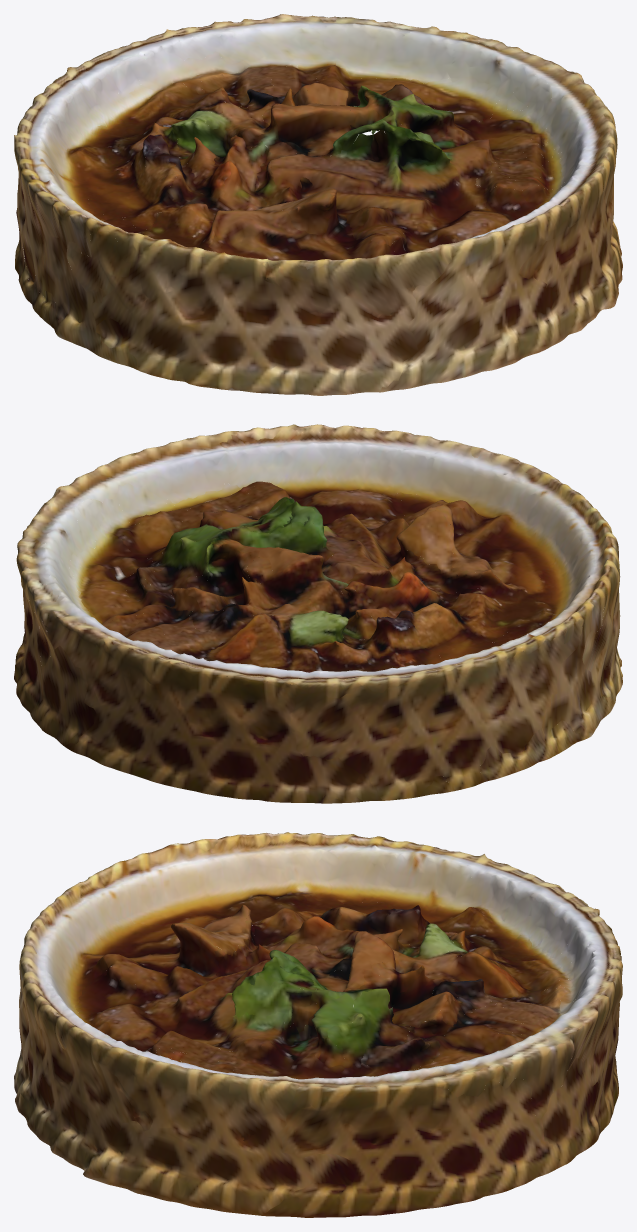
File: costillas.glb
3 views of the same model, one above another, from view 1: azimuth 30°, elevation 25°; view 2: azimuth 150°, elevation 25°; view 3: azimuth 270°, elevation 25° (orthographic).
Parts seen in each view (by area): view 1: parte0, parte1; view 2: parte0, parte1; view 3: parte0, parte1.
Part boxes in pixels (box(x1,y1,x2,y2)): parte0: box(14, 14, 622, 395); parte1: box(18, 17, 564, 390); parte0: box(14, 424, 622, 803); parte1: box(16, 481, 617, 803); parte0: box(14, 832, 622, 1217); parte1: box(74, 902, 594, 1118).
Size of the model in its own units: 0.2149 by 0.0587 by 0.2117.
1 material, 1 textured.
